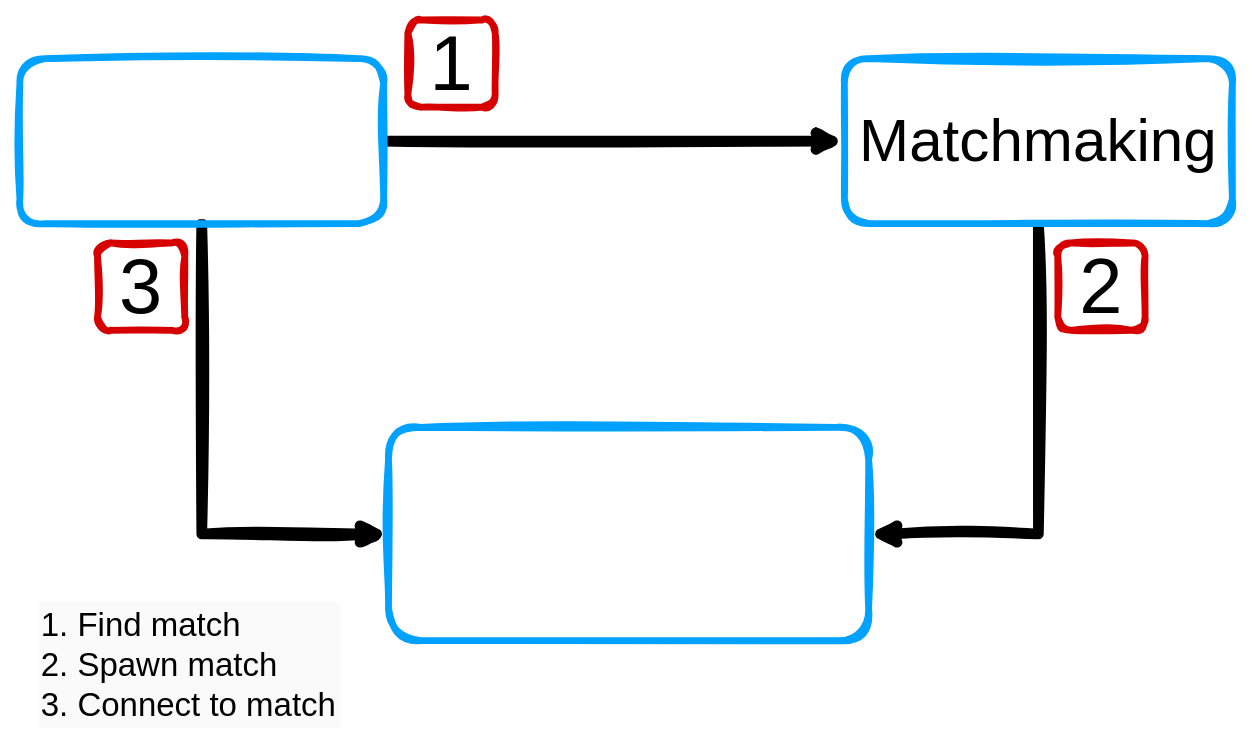
Some shapes in this 1252 by 745 pixel diagram are drawn without their labels. Each missing label, with the box of its shape:
Clients: (16, 55, 387, 226)
Simulated Game Server: (385, 423, 872, 644)
